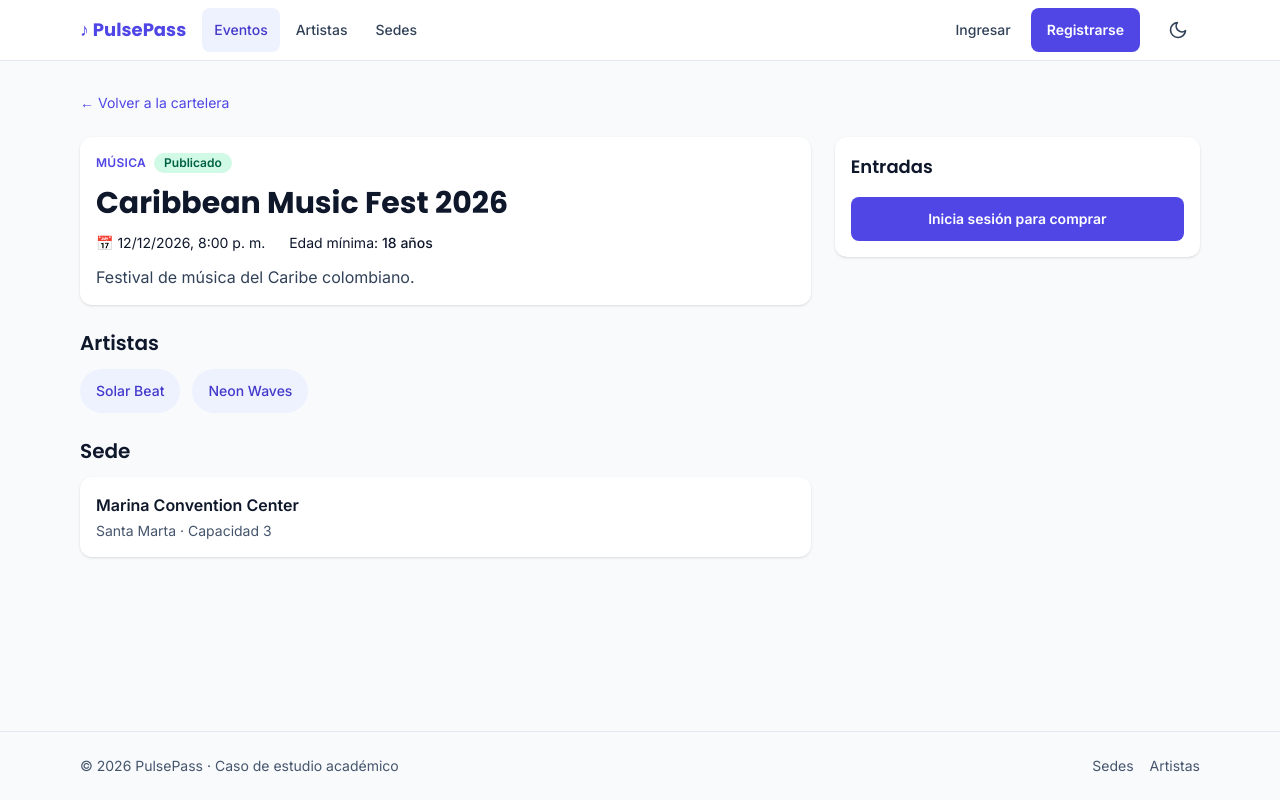
Test: Detalle de evento › TEST-FE-TKT-002: anónimo → "Inicia sesión para comprar" lleva a /login con state.from
Click the link "Inicia sesión para comprar" at (1017, 219), box [851, 197, 1184, 241]
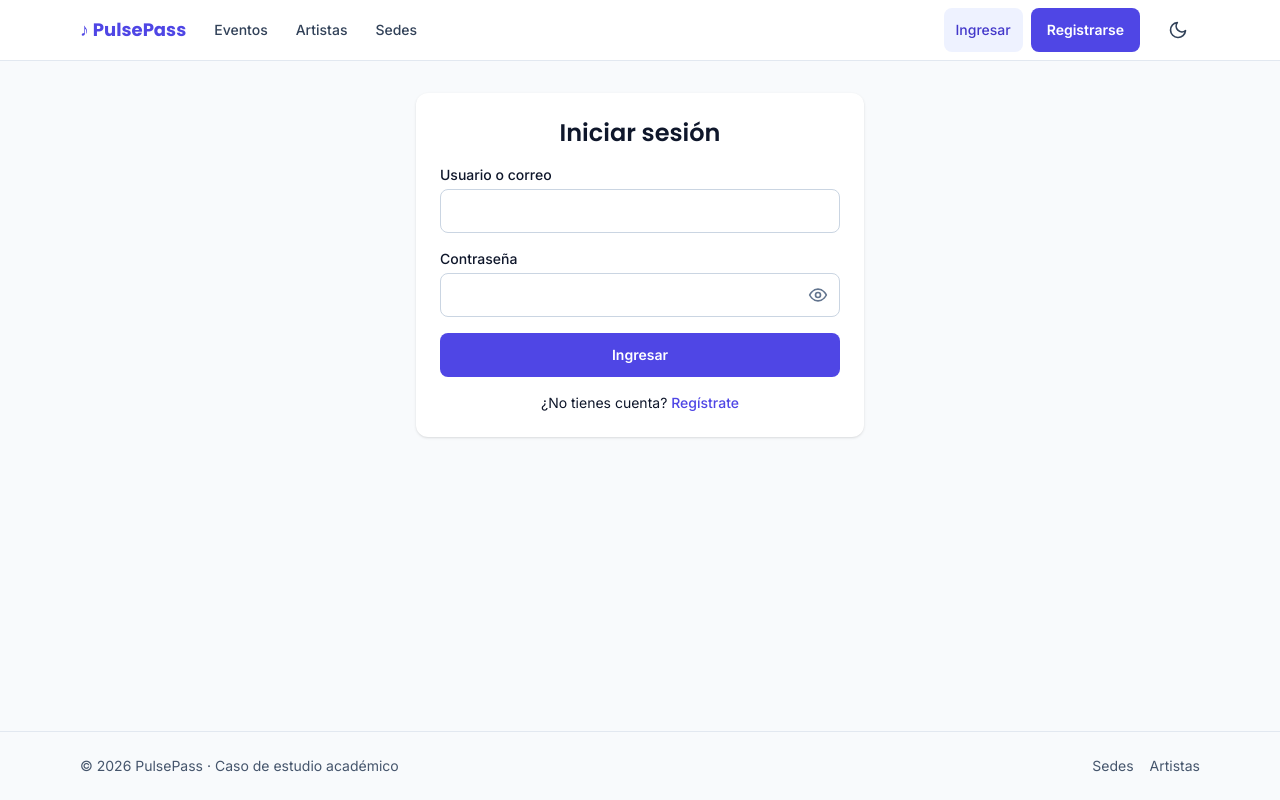
Now the heading "Iniciar sesión" is shown, box [560, 116, 720, 149]
